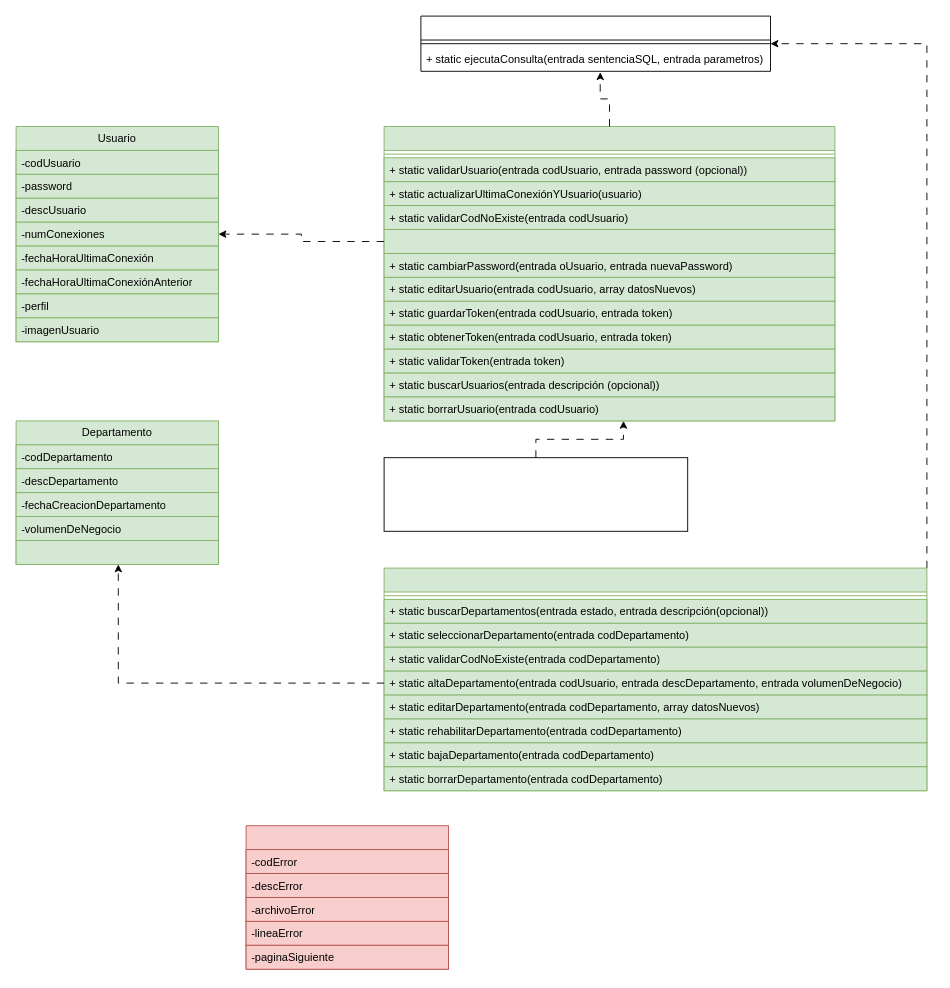
The diagram is 950 pixels wide and 988 high, and some of its shapes have lost their labels. Here are the shapes that lost their labels. From the top down, the box of each, then its label:
(420, 15, 770, 71): DBPDO
(383, 229, 835, 253): + static altaUsuario(entrada codUsuario, entrada password, entrada descUsuario)
(383, 126, 835, 421): UsuarioPDO
(383, 457, 688, 531): <<Interface>> UsuarioDB + validarUsuario(entrada codUsuario, entrada password)
(15, 540, 218, 564): -fechaBajaDepartamento
(383, 567, 927, 791): DepartamentoPDO
(245, 825, 448, 969): AppError
